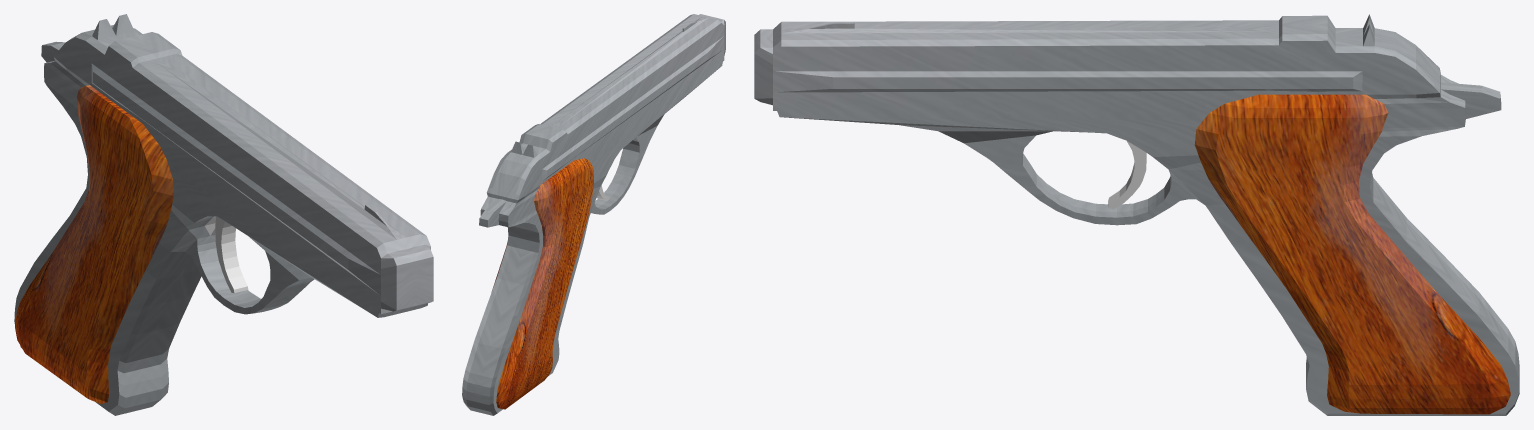
File: pistol.fbx
3 renders of one model, left to right at view 1: azimuth 30°, elevation 25°; view 2: azimuth 150°, elevation 25°; view 3: azimuth 270°, elevation 25°, orthographic. The views are drawn at different scales.
Visible parts, largest first — view 1: Body; view 2: Body; view 3: Body.
Part boxes in pixels (left/top/right/bottom): Body: left=14, top=14, right=433, bottom=415; Body: left=462, top=14, right=725, bottom=415; Body: left=754, top=14, right=1519, bottom=415.
Size of the model in its own units: 53.13 by 271 by 487.
Materials: 3 (2 with a texture image).
